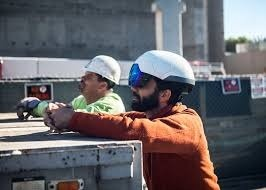helmet: (126, 50, 205, 90), (77, 53, 123, 86)
person with partial safety: (120, 48, 216, 160), (71, 55, 128, 113)
